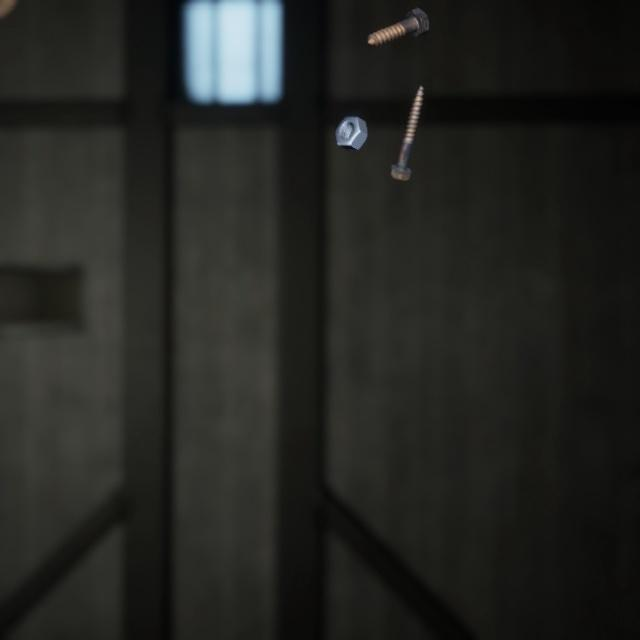bolt: (384, 69, 427, 173), (363, 0, 433, 44)
nut: (331, 100, 374, 142)
